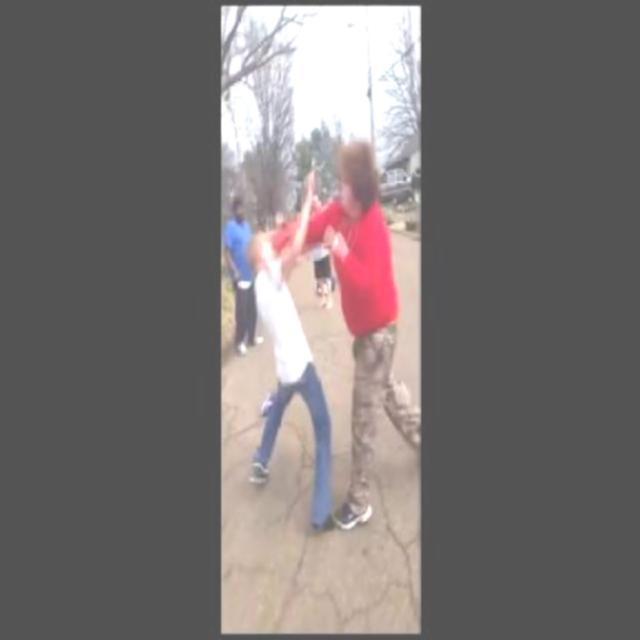fight: (252, 146, 396, 386)
non-fight: (225, 196, 253, 312)
